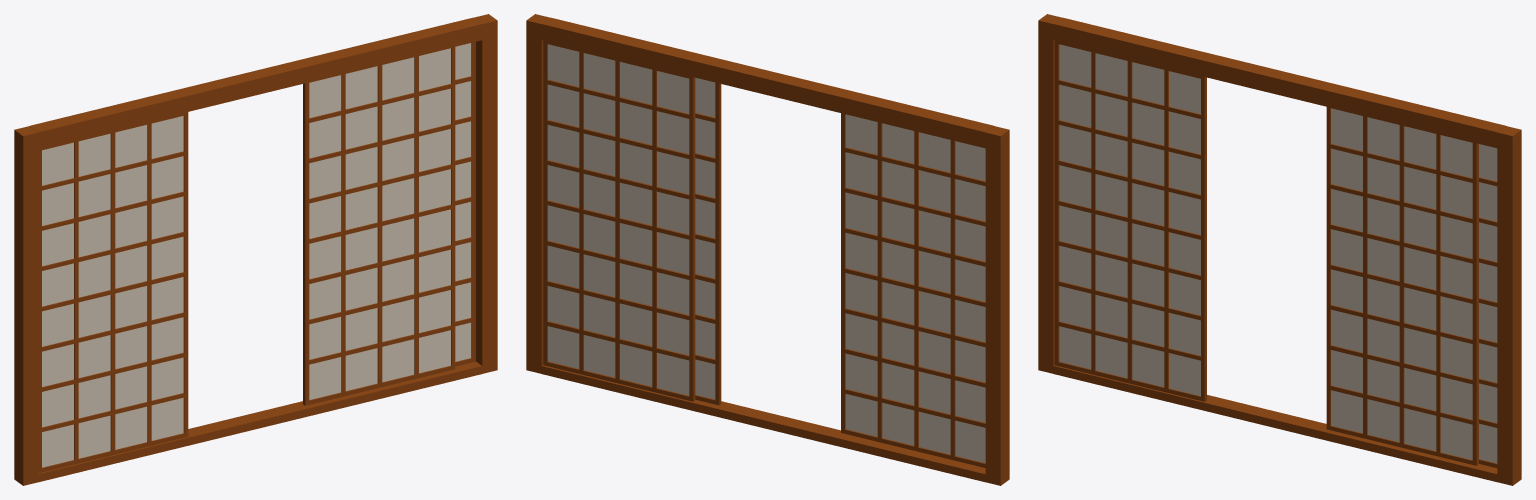
Rendered from japanesedoor.obj.
3 renders of one model, left to right at view 1: azimuth 30°, elevation 25°; view 2: azimuth 150°, elevation 25°; view 3: azimuth 330°, elevation 25°, orthographic.
Visible parts, largest first — view 1: sweethome3d_opening_on_rail_2_plane, sweethome3d_opening_on_rail_1_plane, sweethome3d_unique_rail_outerframe, sweethome3d_opening_on_rail_2_frame, sweethome3d_opening_on_rail_1_frame, sweethome3d_opening_on_rail_3_plane, sweethome3d_opening_on_rail_3_frame; view 2: sweethome3d_opening_on_rail_3_plane, sweethome3d_opening_on_rail_1_plane, sweethome3d_unique_rail_outerframe, sweethome3d_opening_on_rail_3_frame, sweethome3d_opening_on_rail_1_frame, sweethome3d_opening_on_rail_2_plane, sweethome3d_opening_on_rail_2_frame; view 3: sweethome3d_opening_on_rail_2_plane, sweethome3d_opening_on_rail_1_plane, sweethome3d_unique_rail_outerframe, sweethome3d_opening_on_rail_1_frame, sweethome3d_opening_on_rail_2_frame, sweethome3d_opening_on_rail_3_plane, sweethome3d_opening_on_rail_3_frame.
Boxes of the visible parts, x1=… form: sweethome3d_opening_on_rail_2_plane: x1=309, y1=48, x2=450, y2=399; sweethome3d_opening_on_rail_1_plane: x1=42, y1=116, x2=183, y2=467; sweethome3d_unique_rail_outerframe: x1=14, y1=14, x2=497, y2=485; sweethome3d_opening_on_rail_2_frame: x1=303, y1=47, x2=455, y2=405; sweethome3d_opening_on_rail_1_frame: x1=38, y1=112, x2=188, y2=473; sweethome3d_opening_on_rail_3_plane: x1=455, y1=43, x2=471, y2=361; sweethome3d_opening_on_rail_3_frame: x1=455, y1=41, x2=475, y2=366; sweethome3d_opening_on_rail_3_plane: x1=548, y1=44, x2=689, y2=395; sweethome3d_opening_on_rail_1_plane: x1=845, y1=114, x2=985, y2=462; sweethome3d_unique_rail_outerframe: x1=526, y1=14, x2=1009, y2=485; sweethome3d_opening_on_rail_3_frame: x1=543, y1=40, x2=695, y2=401; sweethome3d_opening_on_rail_1_frame: x1=841, y1=113, x2=985, y2=467; sweethome3d_opening_on_rail_2_plane: x1=695, y1=77, x2=715, y2=399; sweethome3d_opening_on_rail_2_frame: x1=695, y1=82, x2=721, y2=405; sweethome3d_opening_on_rail_2_plane: x1=1331, y1=108, x2=1472, y2=459; sweethome3d_opening_on_rail_1_plane: x1=1059, y1=44, x2=1200, y2=396; sweethome3d_unique_rail_outerframe: x1=1038, y1=14, x2=1521, y2=485; sweethome3d_opening_on_rail_1_frame: x1=1054, y1=40, x2=1206, y2=401; sweethome3d_opening_on_rail_2_frame: x1=1326, y1=107, x2=1478, y2=465; sweethome3d_opening_on_rail_3_plane: x1=1479, y1=144, x2=1497, y2=463; sweethome3d_opening_on_rail_3_frame: x1=1479, y1=177, x2=1497, y2=467.
Bounding box in the file's own units: 161 × 114 × 5.24.
